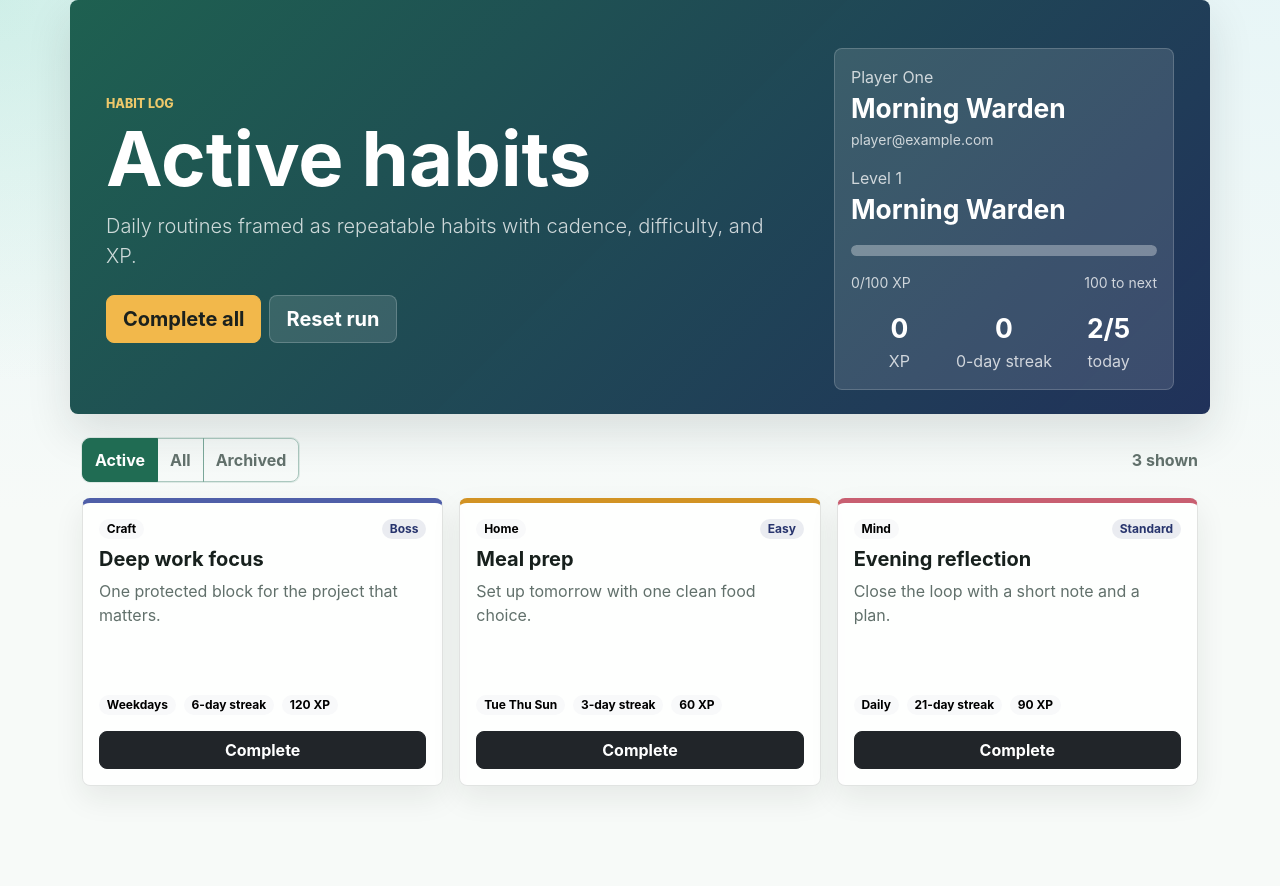
Test: Habits view › filters visible habits by active and archived state
Click the button "All": (180, 460) [157,438,204,482]
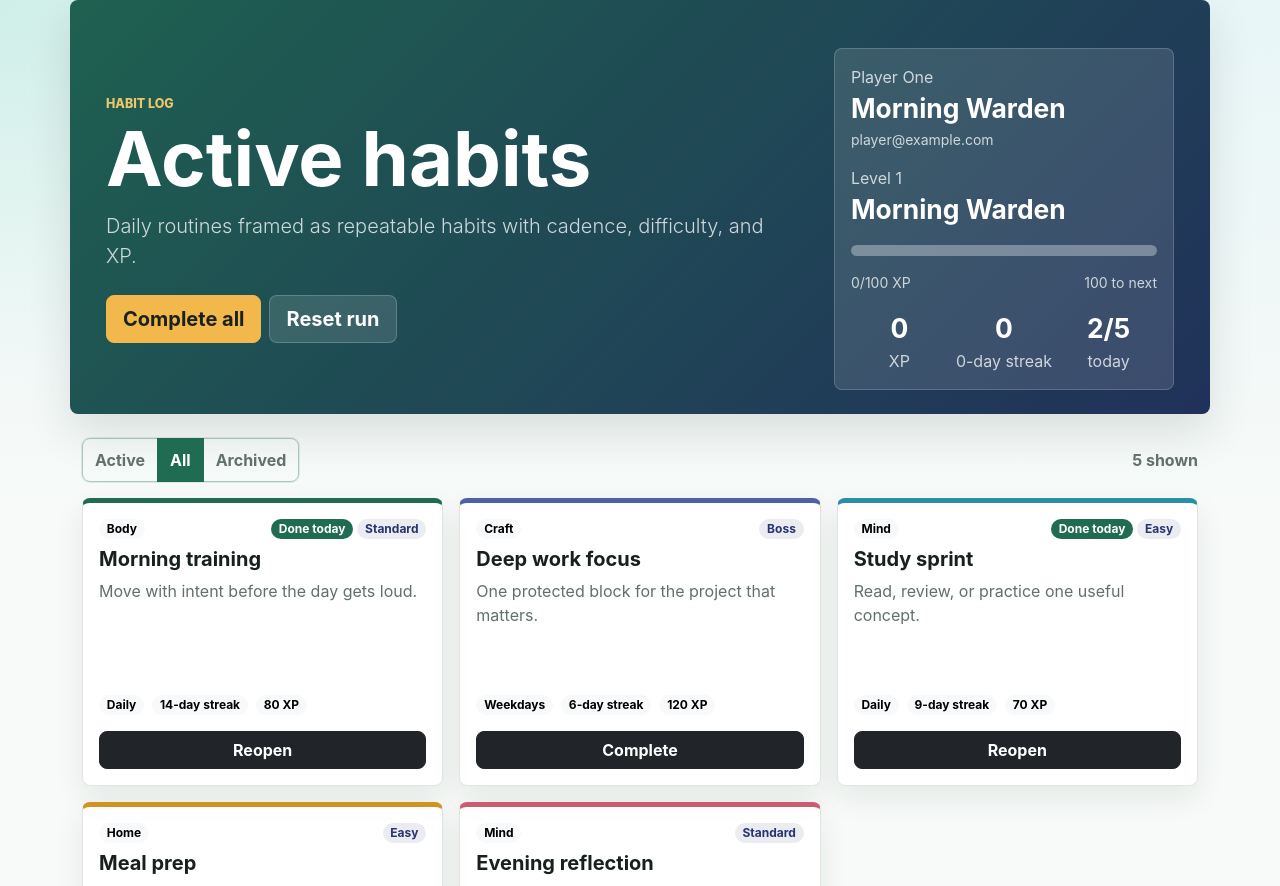
Result: the text "Morning training" is shown at [99,547,261,571]
Click the button "Archived": (251, 460) [203,438,299,482]
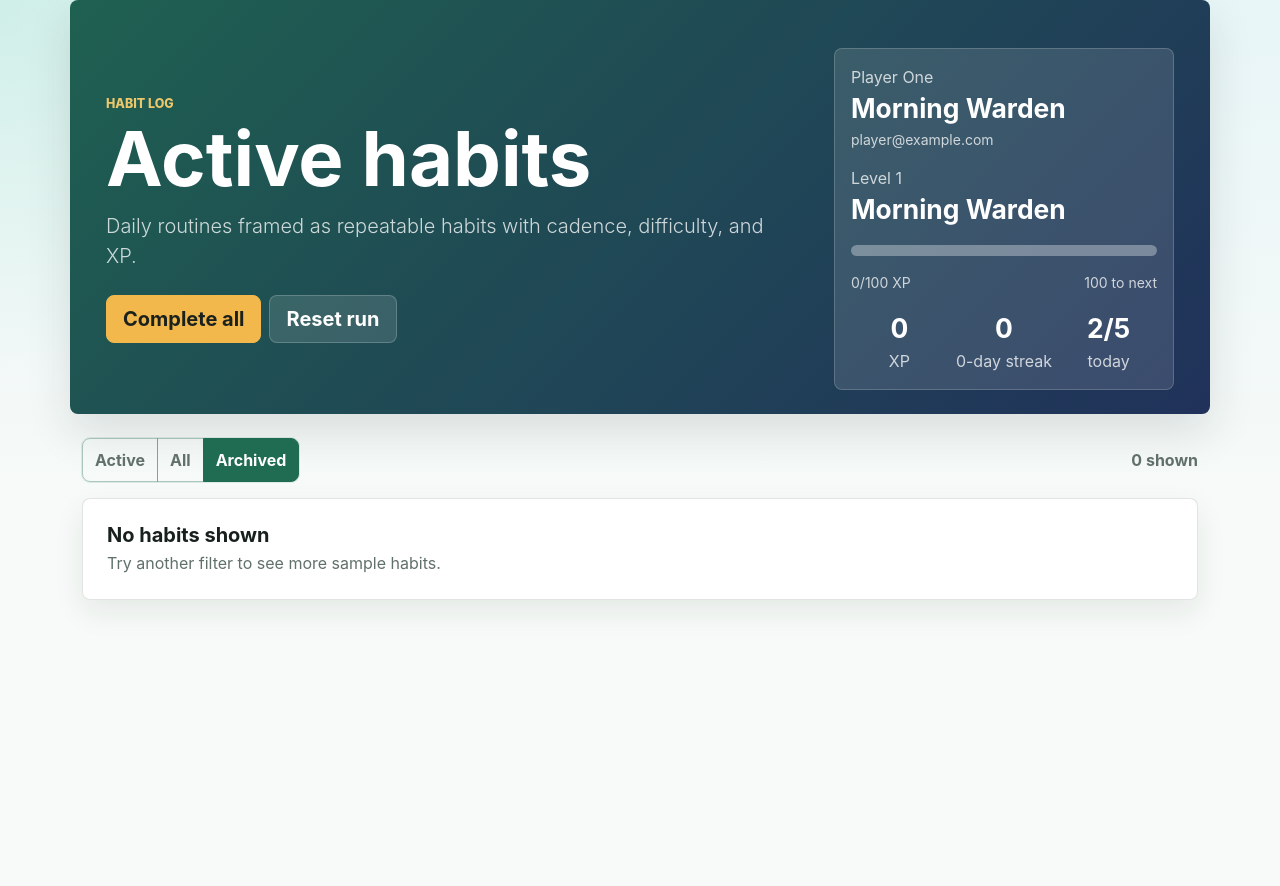
Result: the text "No habits shown" is shown at [107,523,270,547]
Result: the text "Morning training" is gone
Result: the text "Deep work focus" is gone
